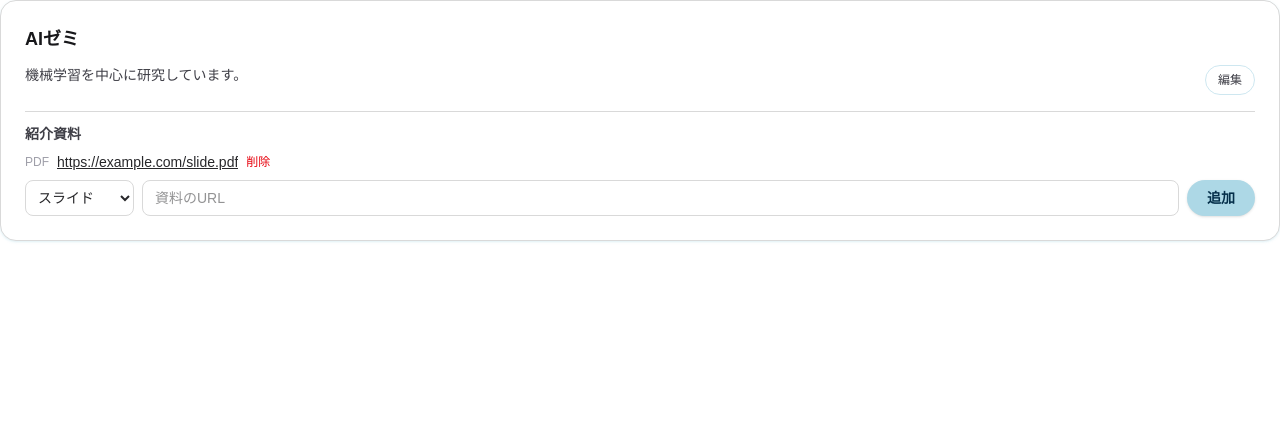
Test: TeacherSeminarView › edits the description and photo_url
Click the button "編集": click(1230, 80) 1205,65 -> 1255,95
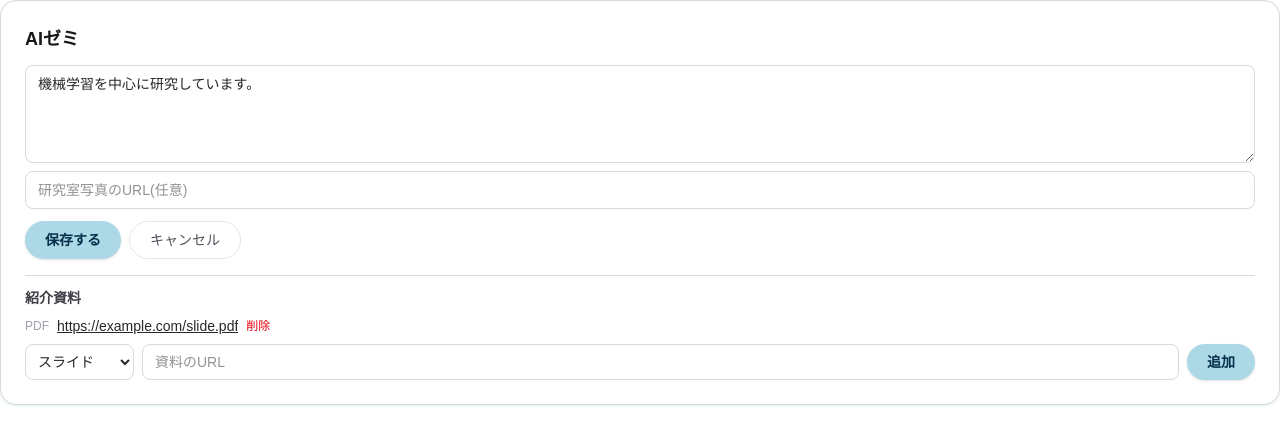
Replace the text in the text box with placeholder "研究内容・ゼミ紹介文" with "更新後の説明": (640, 114) 25,65 -> 1255,163
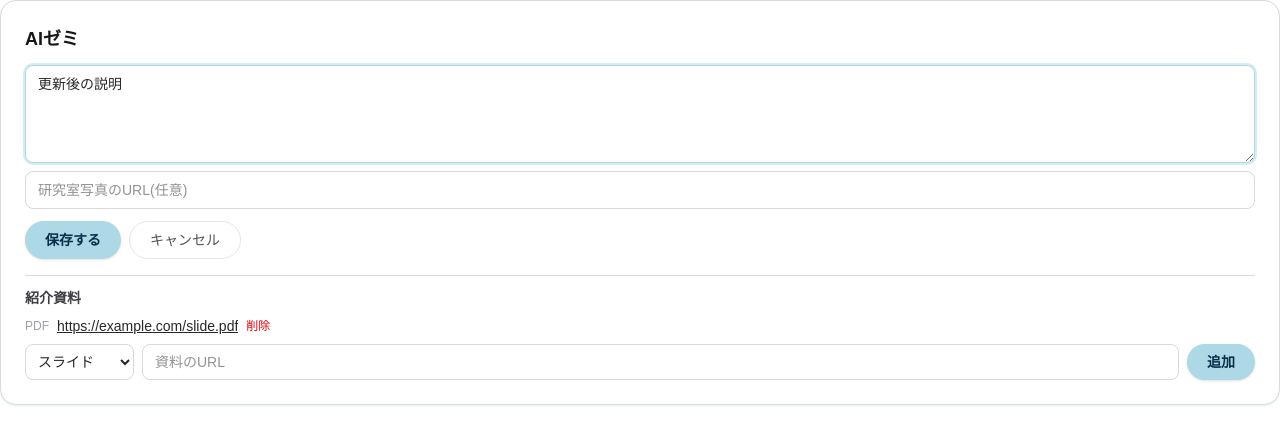
Click the button "保存する": click(73, 240) 25,221 -> 121,259
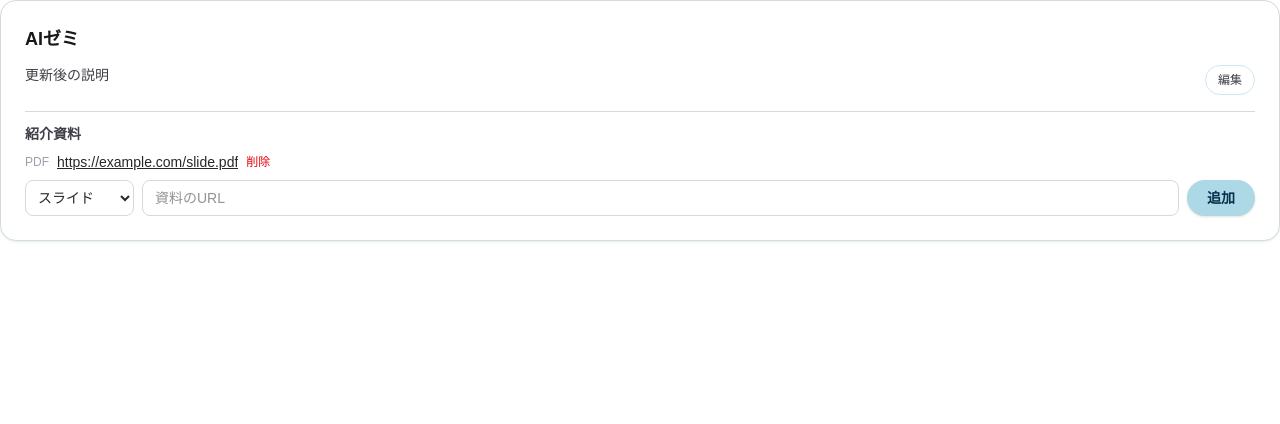
Check: the text "更新後の説明" is shown, box 25,65 -> 109,85
